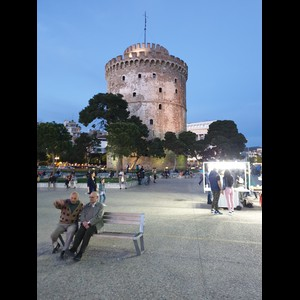White Tower: (102, 10, 191, 176)
